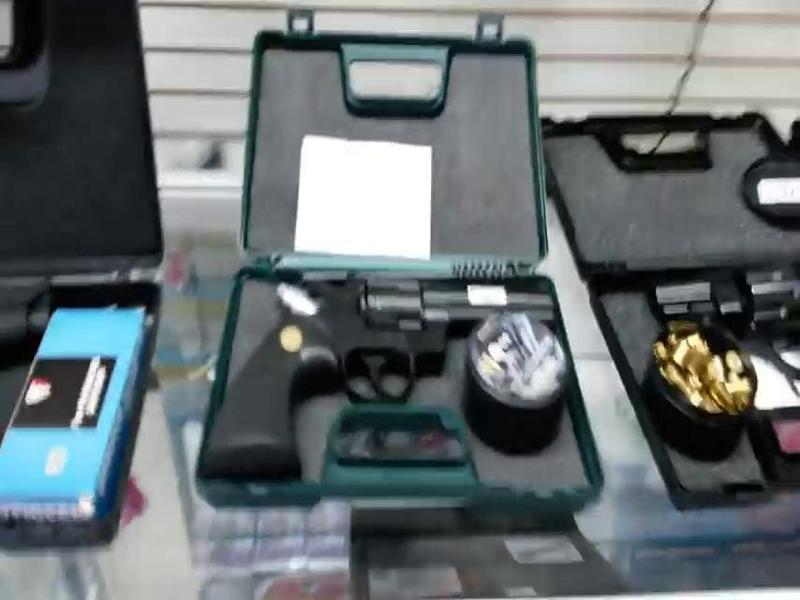Revolver: (206, 263, 577, 495)
